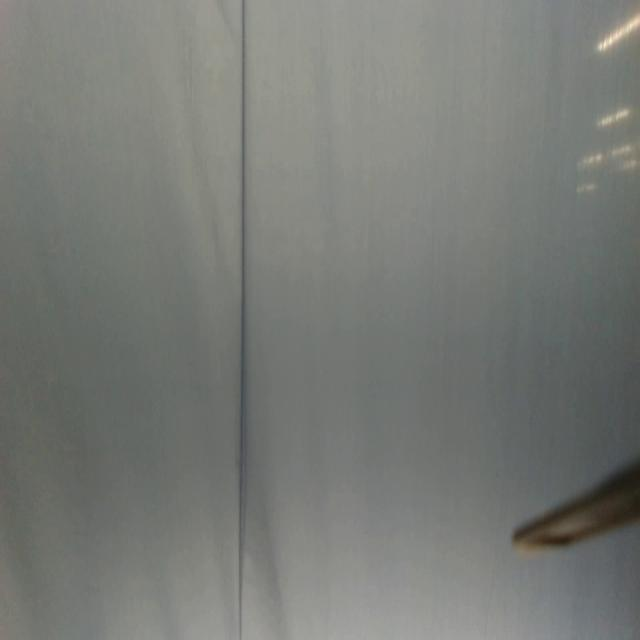crease: (237, 0, 249, 640)
